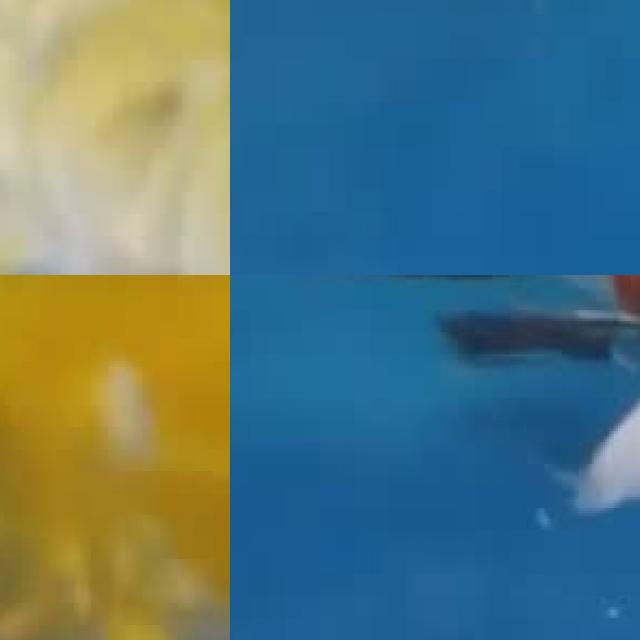fish: (0, 0, 230, 275)
